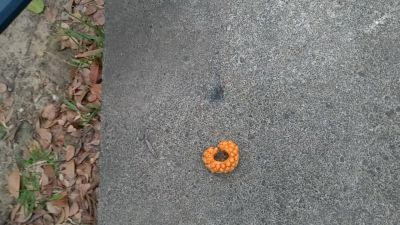eggs: (202, 140, 241, 175)
